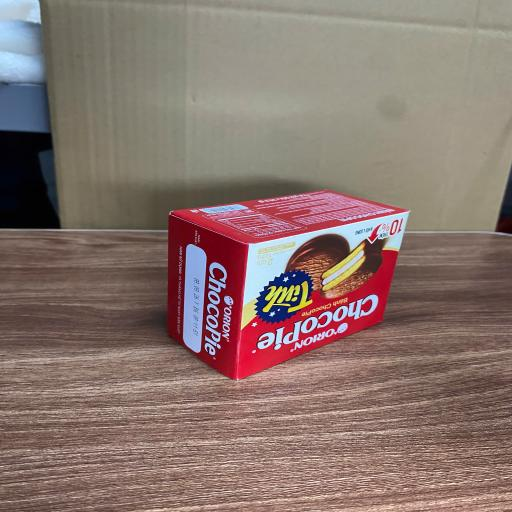chocopie: (165, 190, 410, 379)
